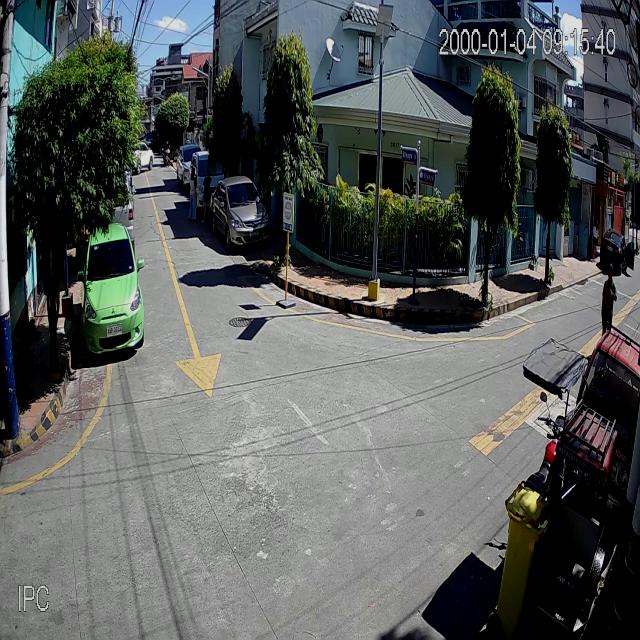walking: (601, 264, 617, 335), (592, 220, 600, 261)
